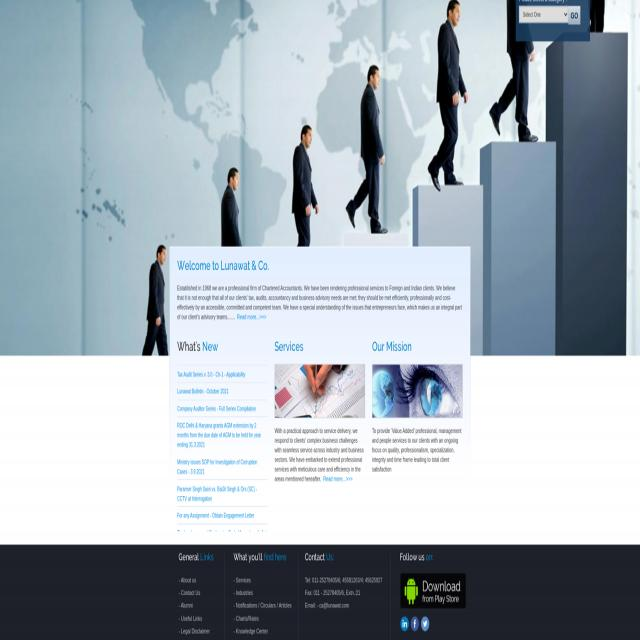button: (275, 364, 365, 418), (372, 364, 462, 418), (400, 572, 466, 608), (568, 6, 580, 24), (401, 616, 409, 632), (411, 616, 419, 632), (421, 616, 429, 632)
field: (519, 5, 569, 24)
